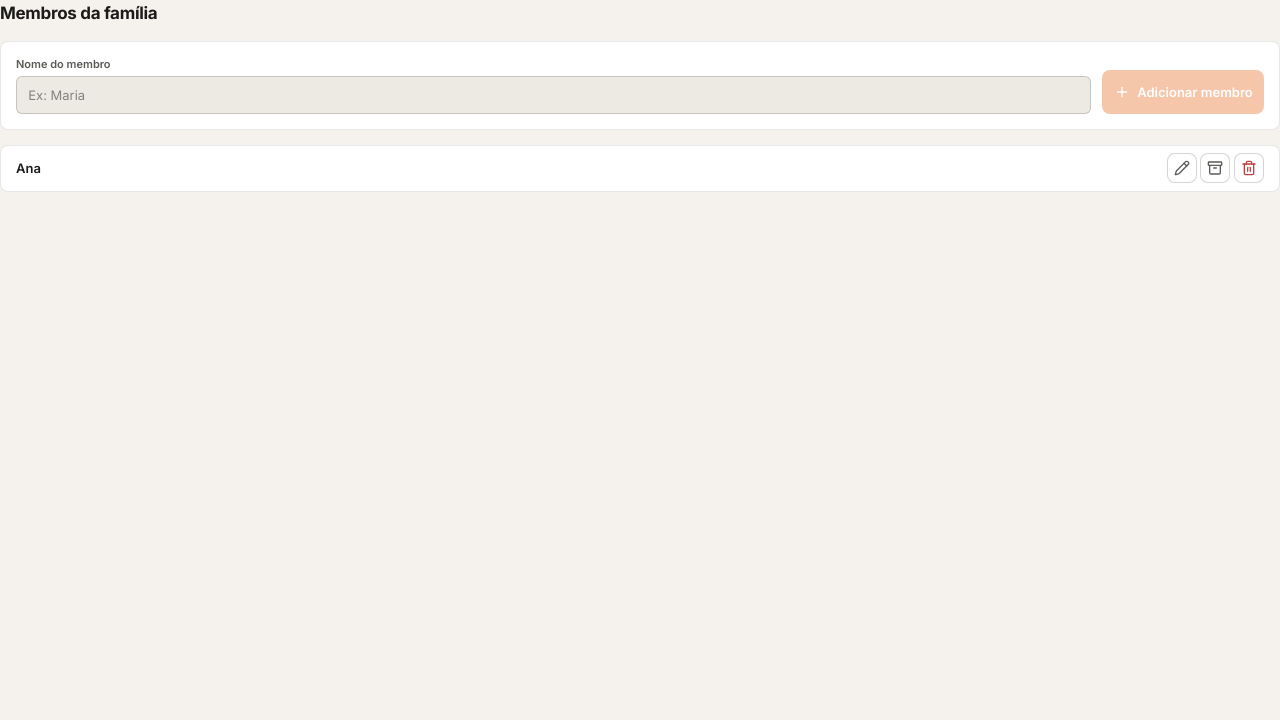
Test: FinanceMemberManager › renames a member through the modal and closes it on success
Click the button named "Renomear Ana". click: (1182, 168)
box: [1166,153,1196,183]
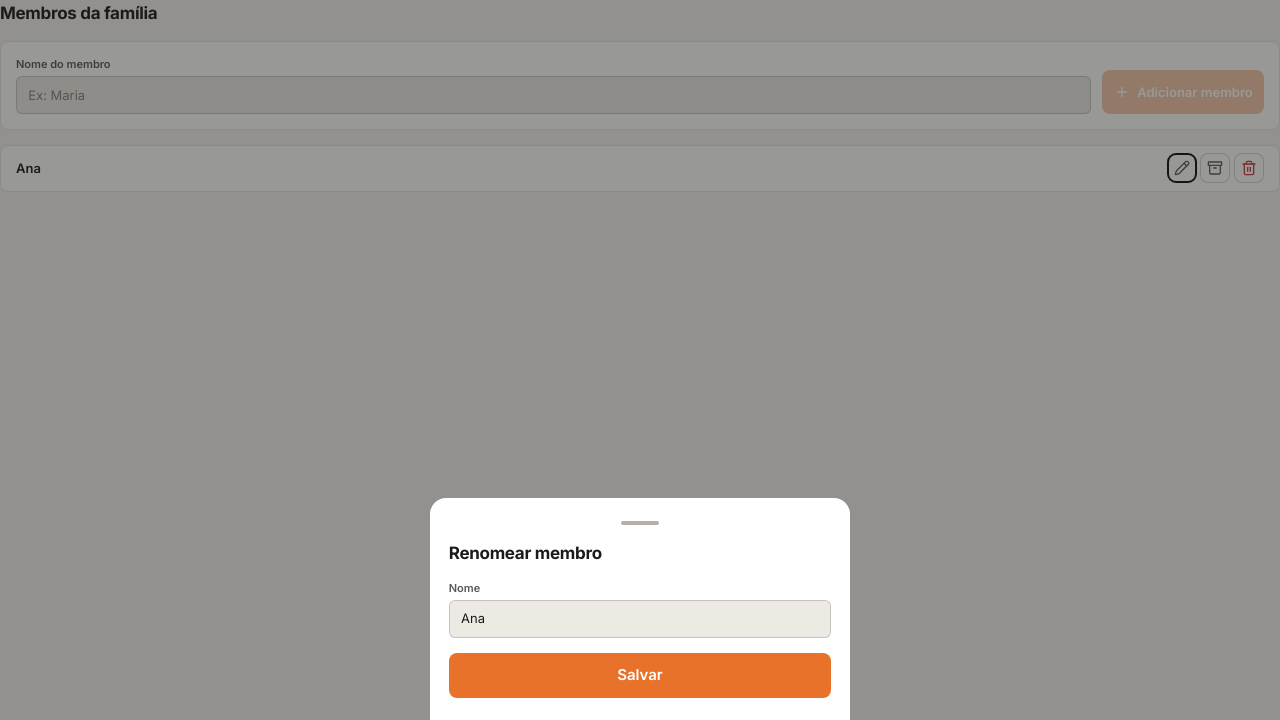
Expected: the field labelled "Nome" holds "Ana"
Replace the text in the field labelled "Nome" with "Ana Clara". click: (640, 618)
box: [449,600,831,638]
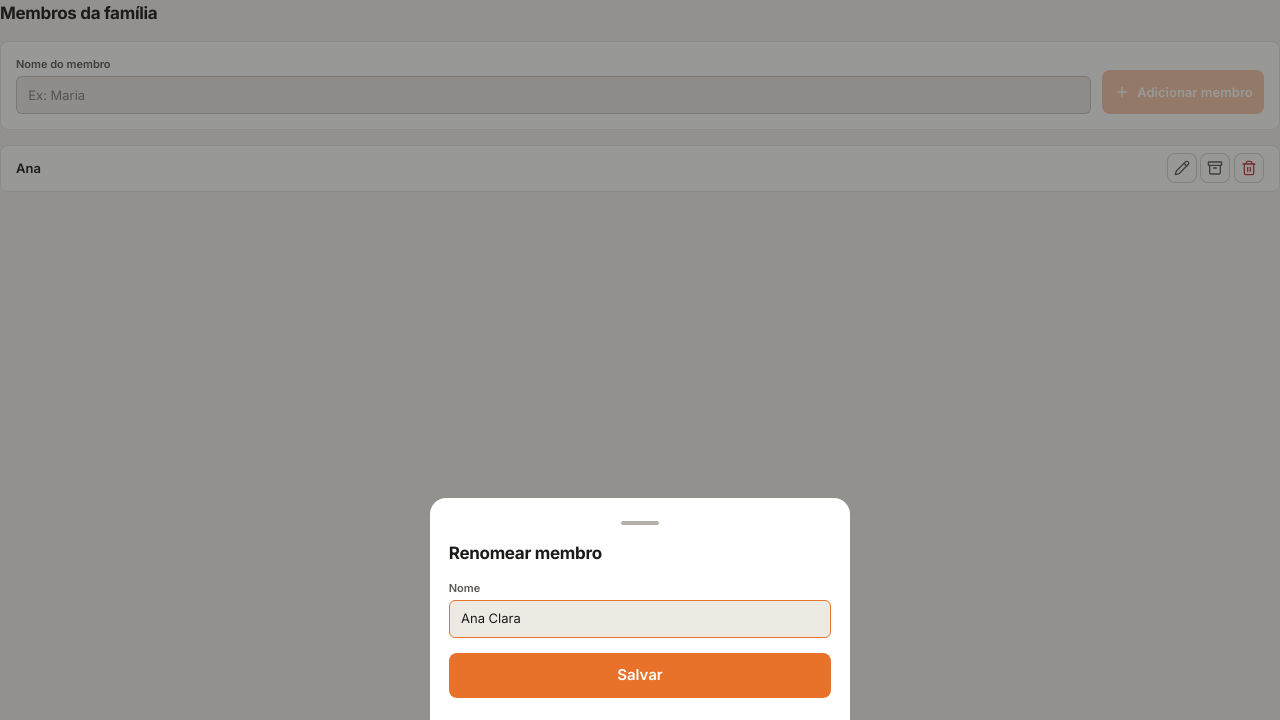
Click the button "Salvar". click: (640, 675)
box: [449,652,831,698]
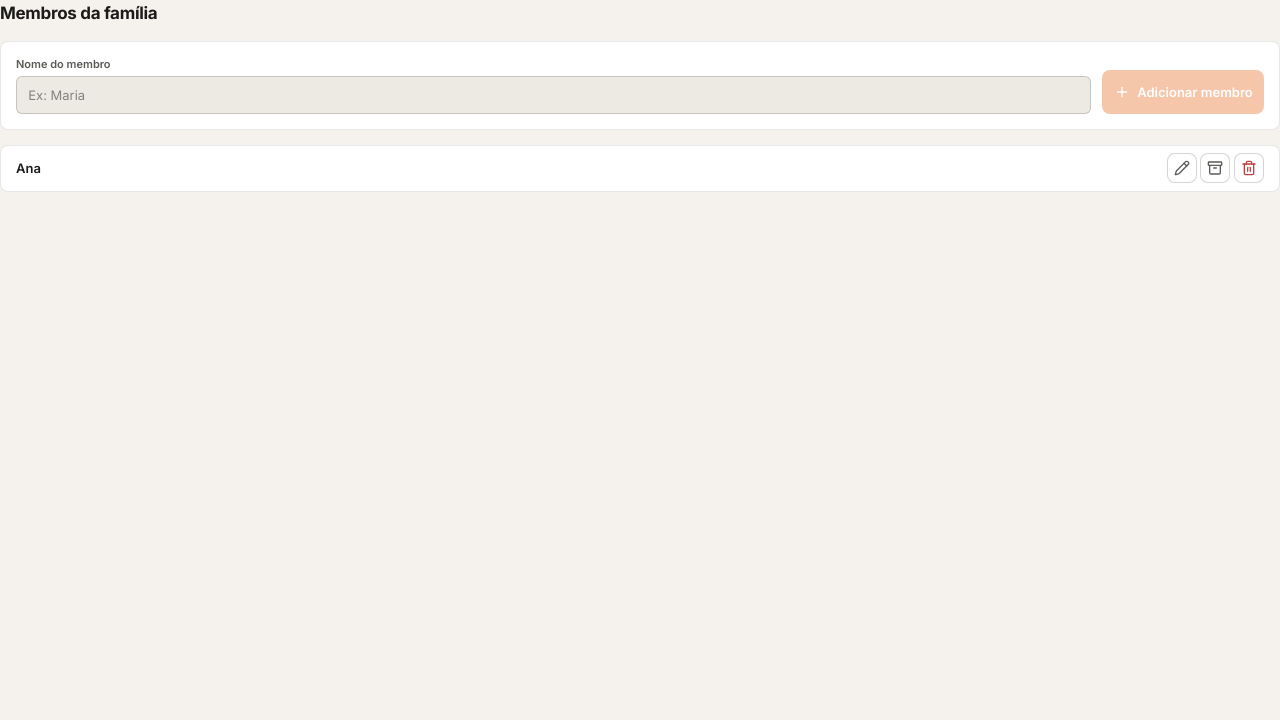
Expected: the dialog is gone
